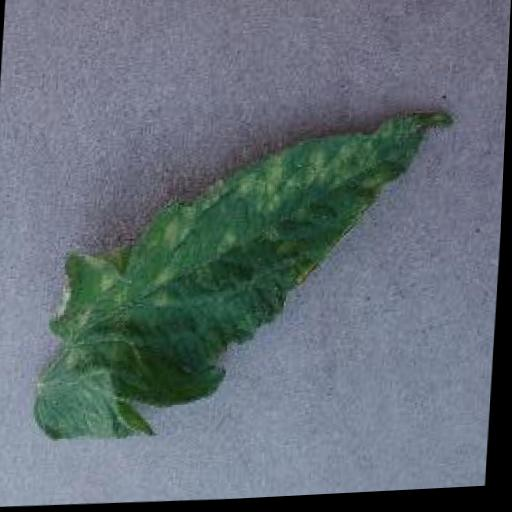Leaf Mold: (35, 104, 457, 452)
